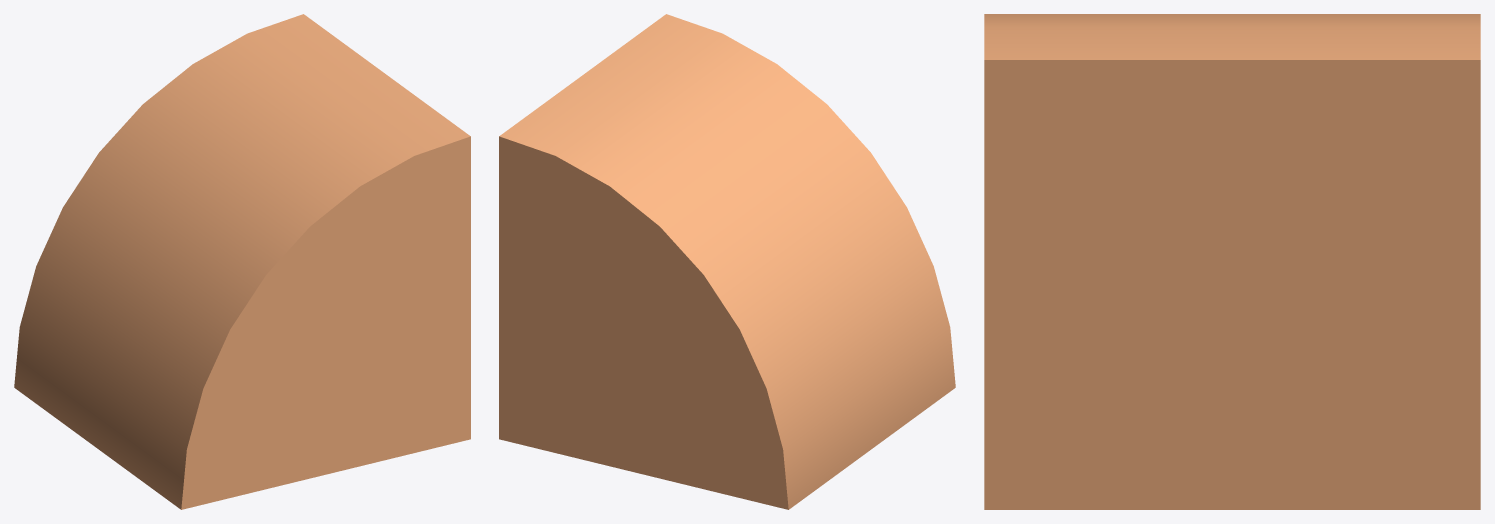
File: Ground_004.fbx
3 renders of one model, left to right at view 1: azimuth 30°, elevation 25°; view 2: azimuth 150°, elevation 25°; view 3: azimuth 270°, elevation 25°, orthographic. The views are drawn at different scales.
Visible parts, largest first — view 1: Ground.004; view 2: Ground.004; view 3: Ground.004.
Boxes of the visible parts, x1,y1,x2,y2 form: Ground.004: (14, 14, 470, 509); Ground.004: (499, 14, 955, 509); Ground.004: (984, 14, 1480, 509).
Size of the model in its own units: 100 by 100 by 100.
